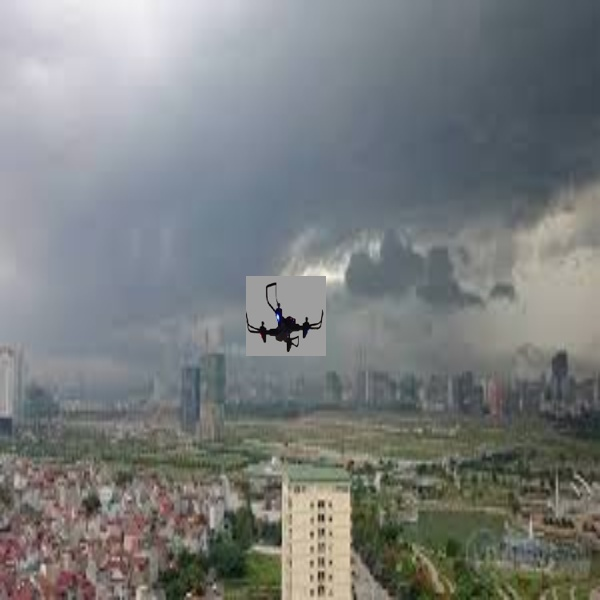drone: (245, 276, 325, 357)
